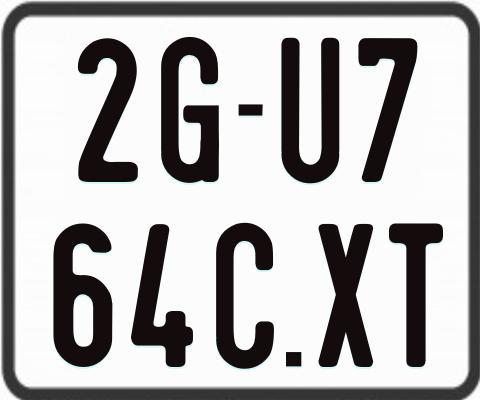2: (75, 37, 135, 183)
4: (130, 223, 194, 371)
6: (50, 222, 113, 371)
7: (358, 36, 417, 183)
C: (214, 221, 274, 370)
G: (158, 35, 217, 186)
T: (386, 224, 445, 373)
U: (281, 38, 341, 184)
X: (319, 221, 376, 370)
